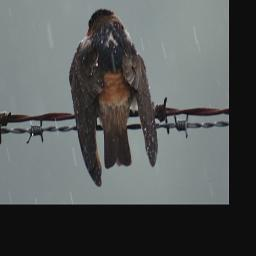Swallow: (69, 8, 160, 189)
